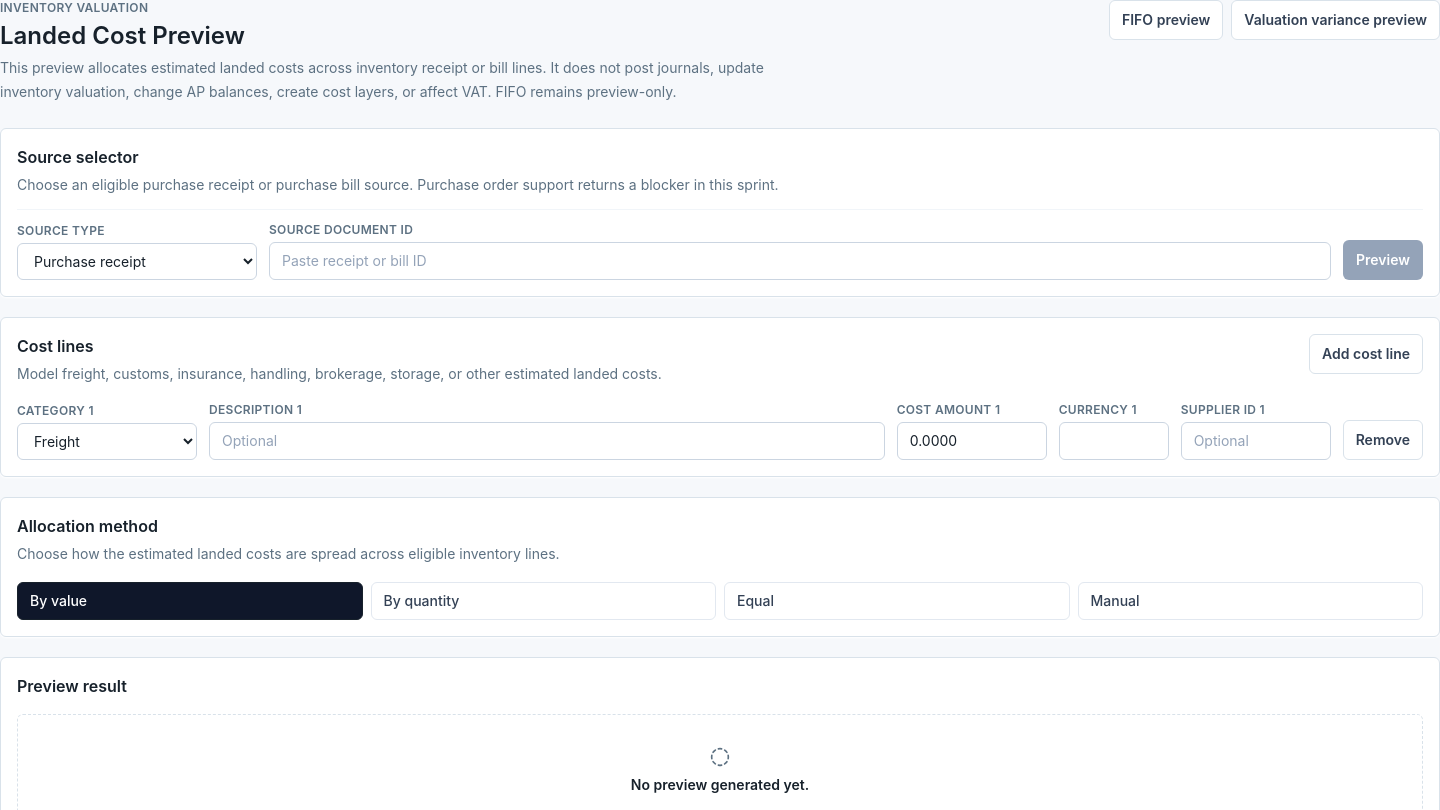
Test: LandedCostPreviewPage › displays blocker output from the preview API
Type "receipt-1" into the field labelled "Source document ID" at (800, 261), box [269,242,1331,280]
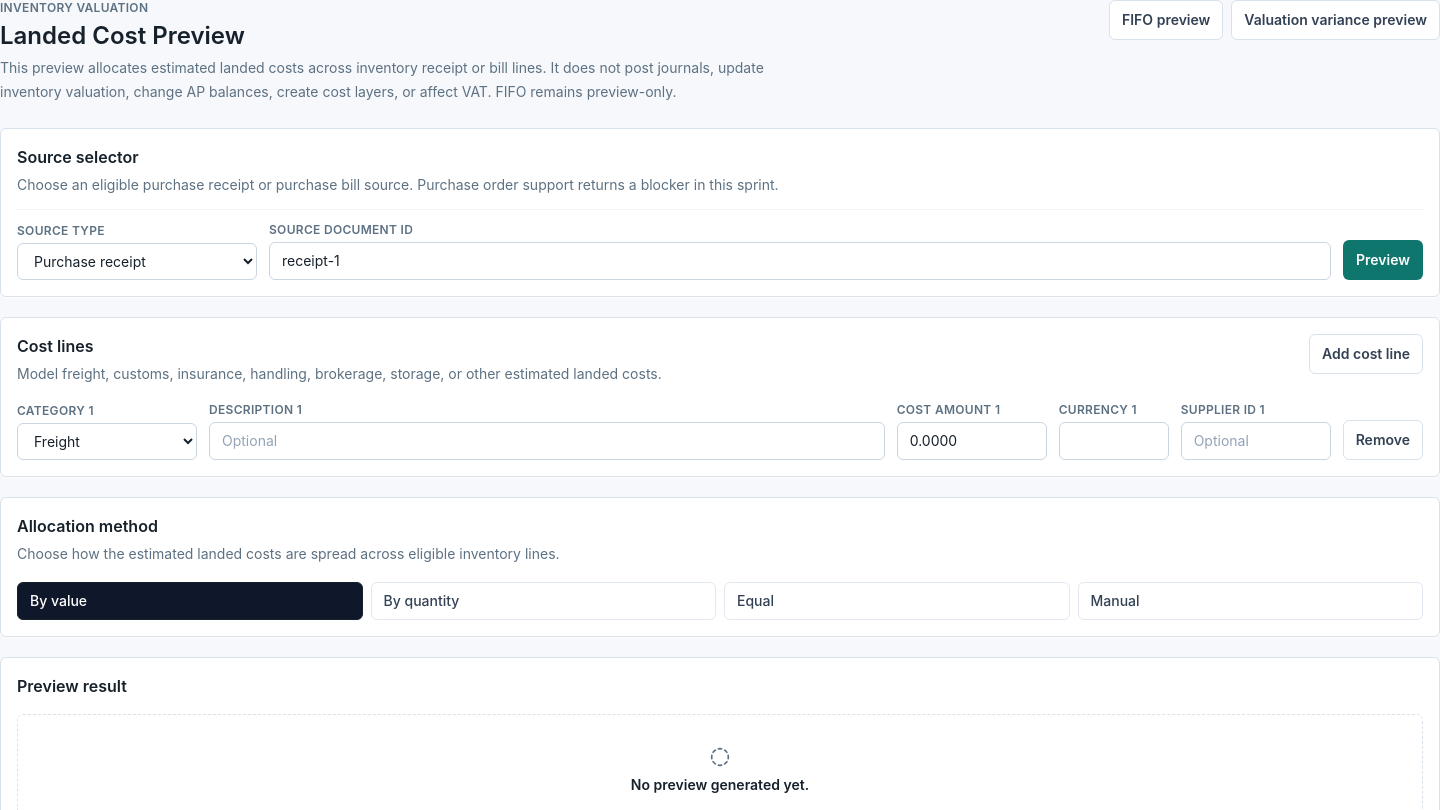
Click the button "Preview" at (1383, 260), box [1343,240,1423,280]
(page scrolled)
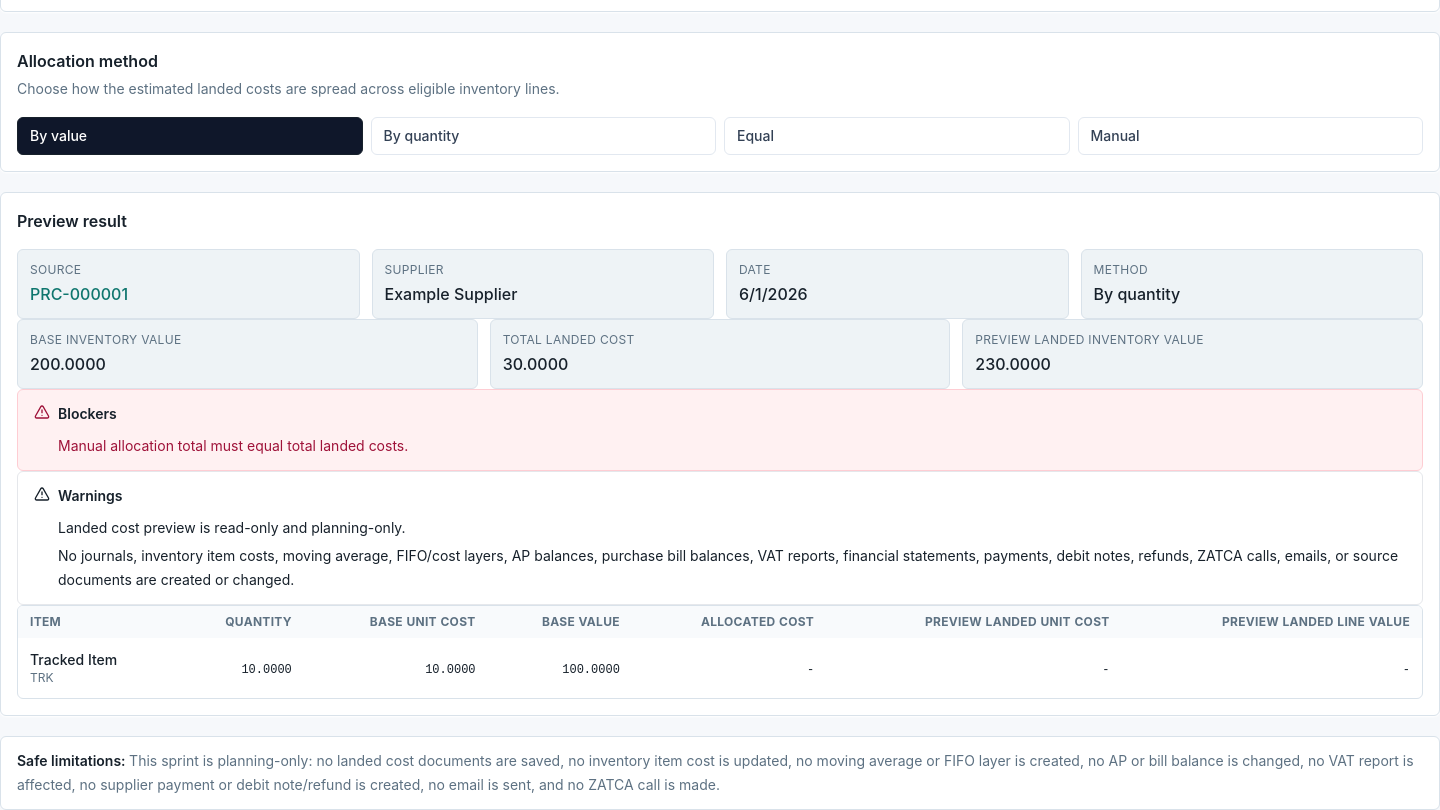
Expected: the text "Blockers" is shown, [58,405,117,422]
Expected: the list item "Manual allocation total must equal total landed costs." is shown, [58,434,408,458]
